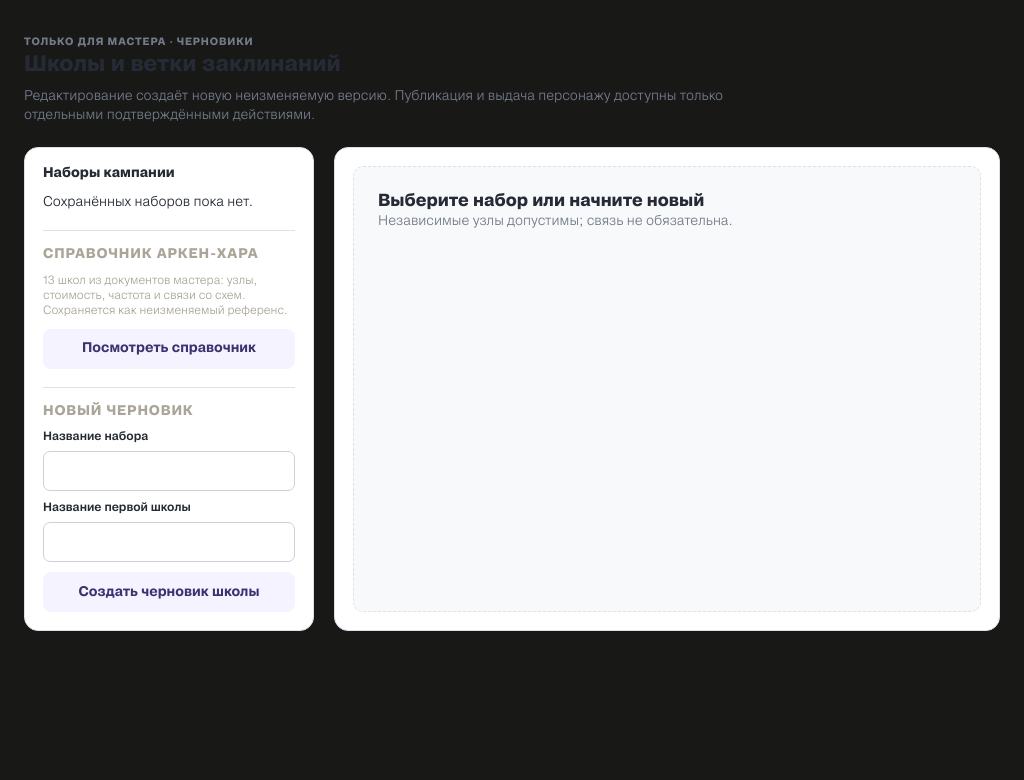
Test case: SpellSchoolsWorkspace › retains a failed create draft and retries the identical action and payload
Expected: the text "Сохранённых наборов пока нет." is shown, x1=43 y1=196 x2=253 y2=209
Type "Личный черновик" into the field labelled "Название набора" at {"x": 169, "y": 471}, box x1=43 y1=451 x2=295 y2=491
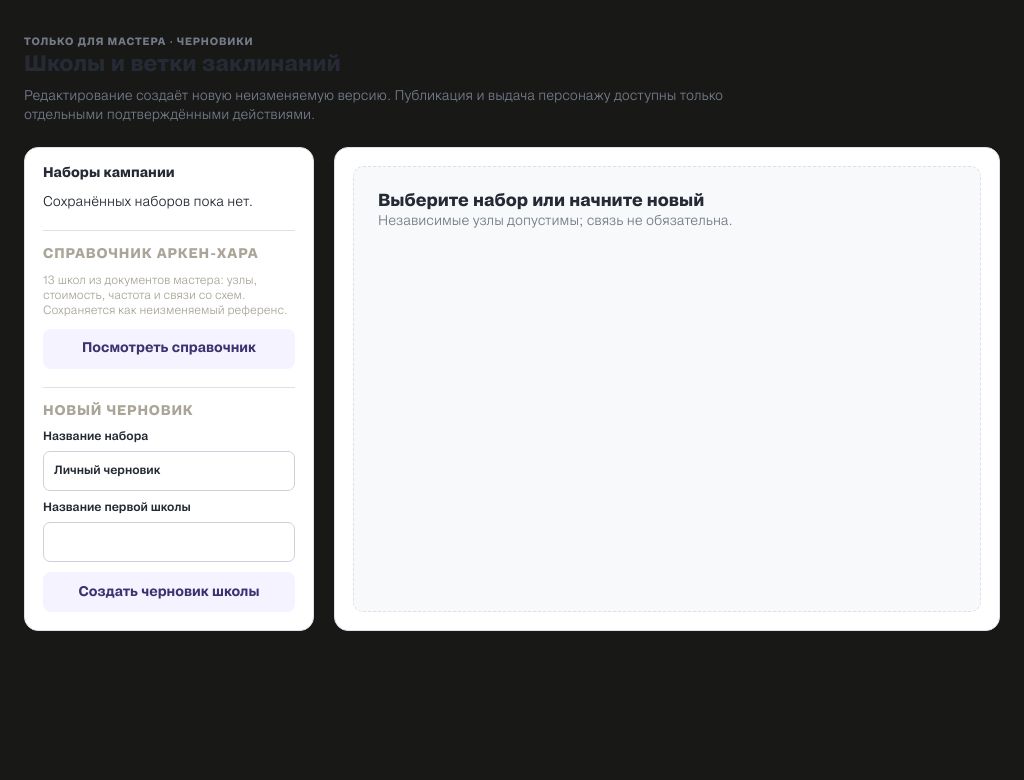
Type "Искры" into the field labelled "Название первой школы" at {"x": 169, "y": 542}, box x1=43 y1=522 x2=295 y2=562
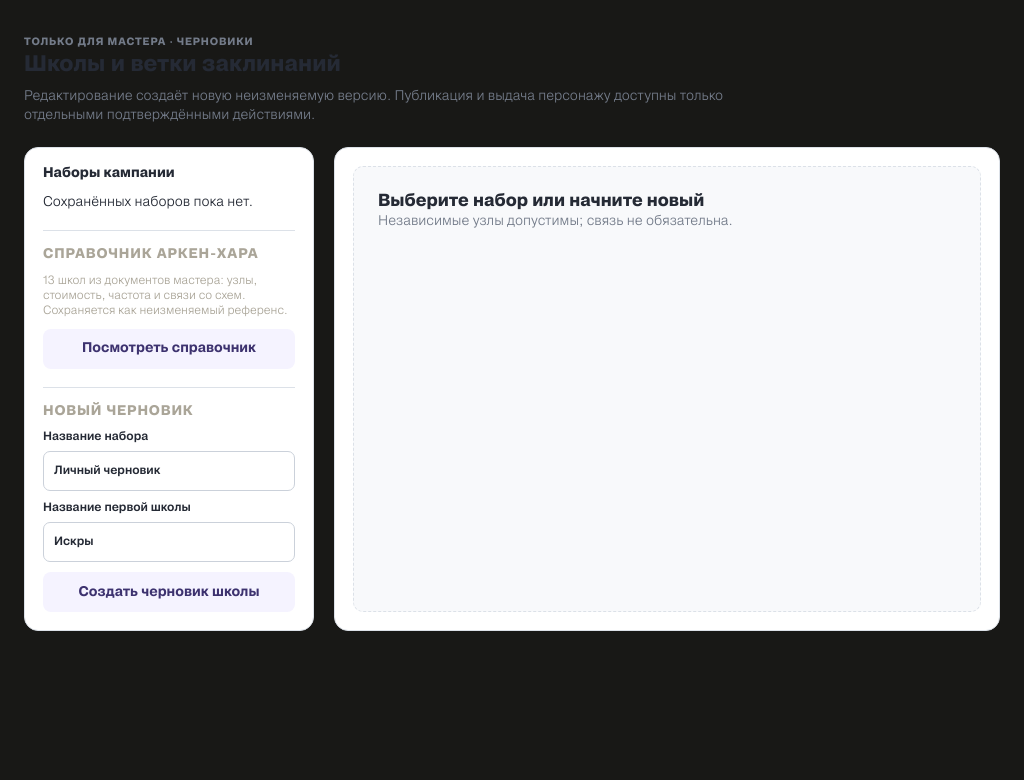
Click the button "Создать черновик школы" at {"x": 169, "y": 592}, box x1=43 y1=572 x2=295 y2=612
(page scrolled)
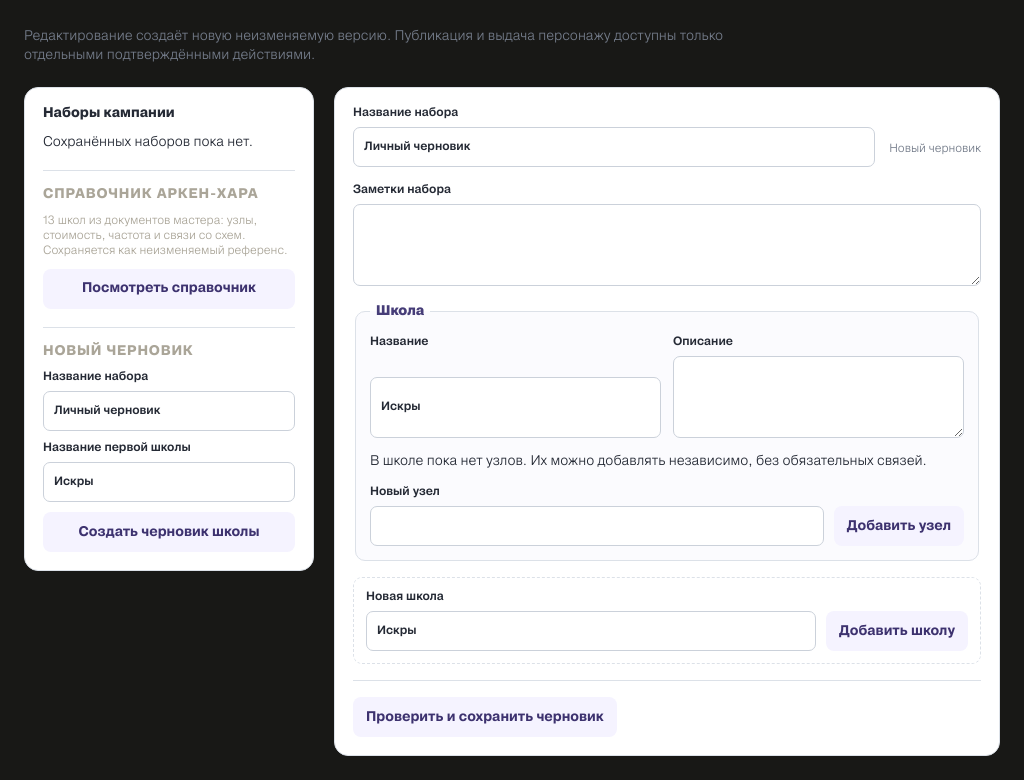
Click the button "Проверить и сохранить черновик" at {"x": 485, "y": 717}, box x1=353 y1=697 x2=617 y2=737
(page scrolled)
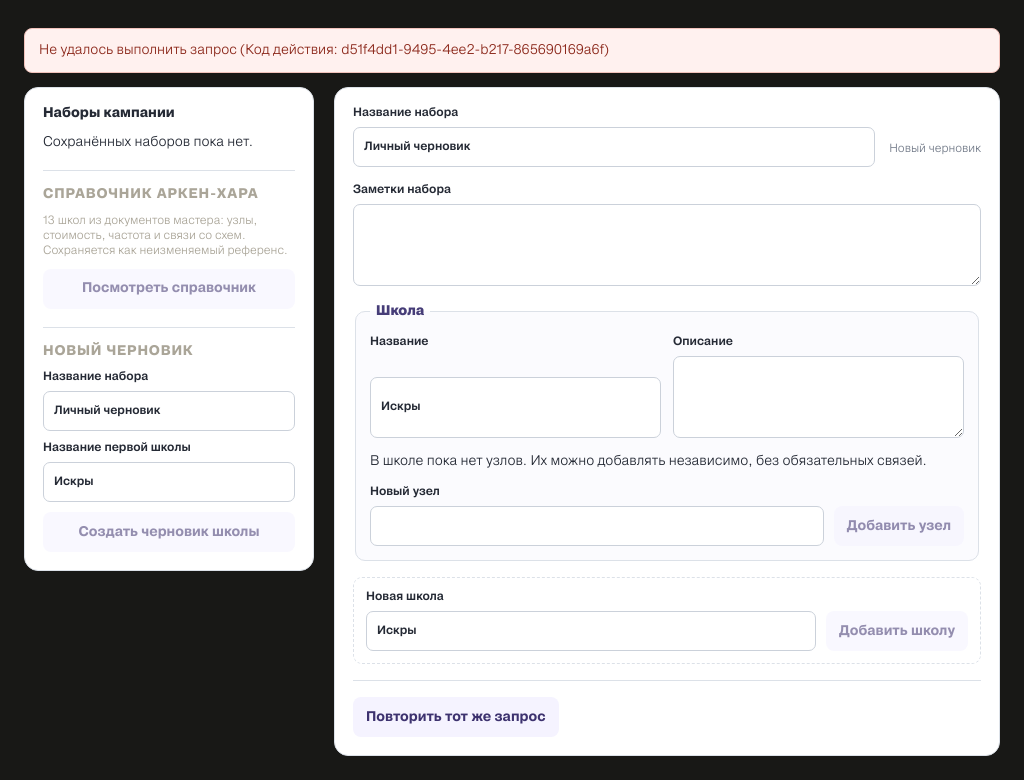
Expected: the field labelled "Название первой школы" is disabled, x1=43 y1=462 x2=295 y2=502
Result: the message is shown at x1=24 y1=28 x2=1000 y2=73
Click the button "Повторить тот же запрос" at {"x": 456, "y": 717}, box x1=353 y1=697 x2=559 y2=737
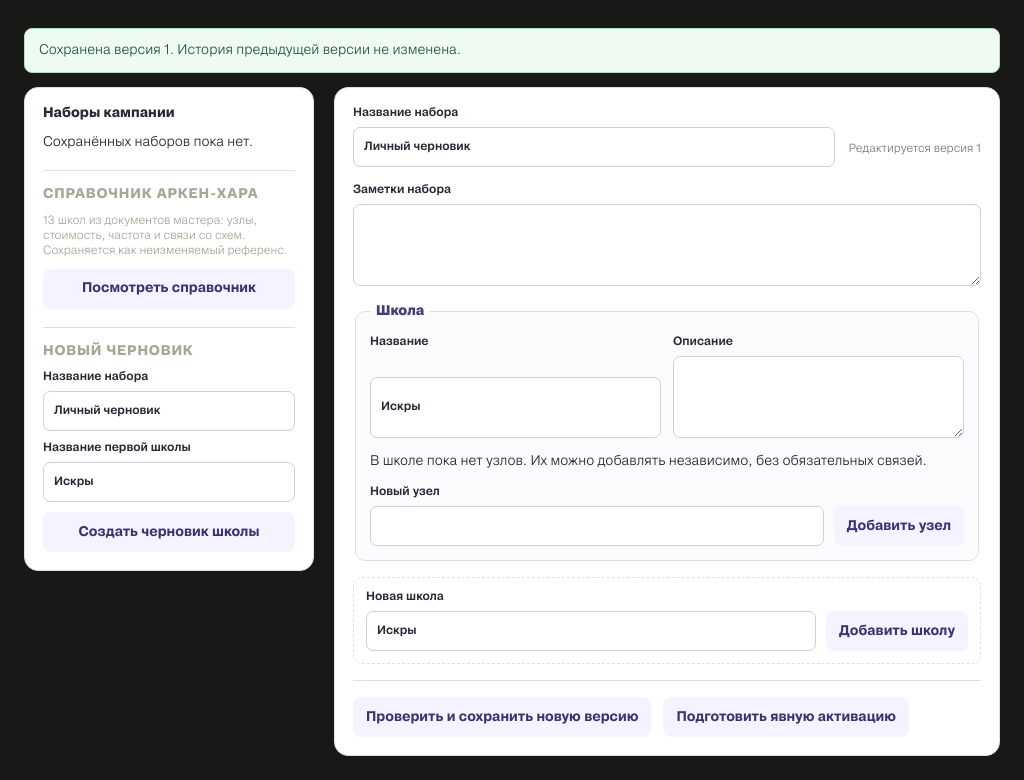
Result: the message "Сохранена версия 1. История предыдущей версии не изменена." is shown at x1=24 y1=28 x2=1000 y2=73
